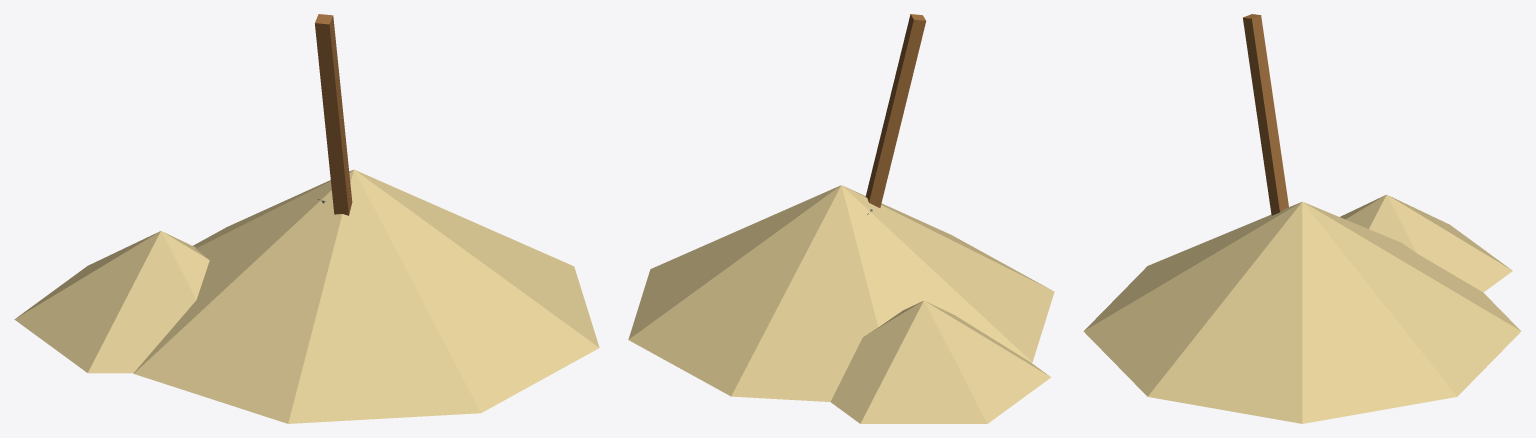
The model's file is monte_areia.glb.
The picture shows the model from 3 angles, left to right: view 1: azimuth 30°, elevation 25°; view 2: azimuth 150°, elevation 25°; view 3: azimuth 270°, elevation 25°; orthographic projection. The views are drawn at different scales.
Visible parts, largest first — view 1: corpo; view 2: corpo; view 3: corpo.
Part boxes in pixels (left/top/right/bottom): corpo: left=14, top=14, right=599, bottom=423; corpo: left=628, top=14, right=1054, bottom=423; corpo: left=1083, top=14, right=1521, bottom=423.
Size of the model in its own units: 0.5599 by 0.3819 by 0.52.
